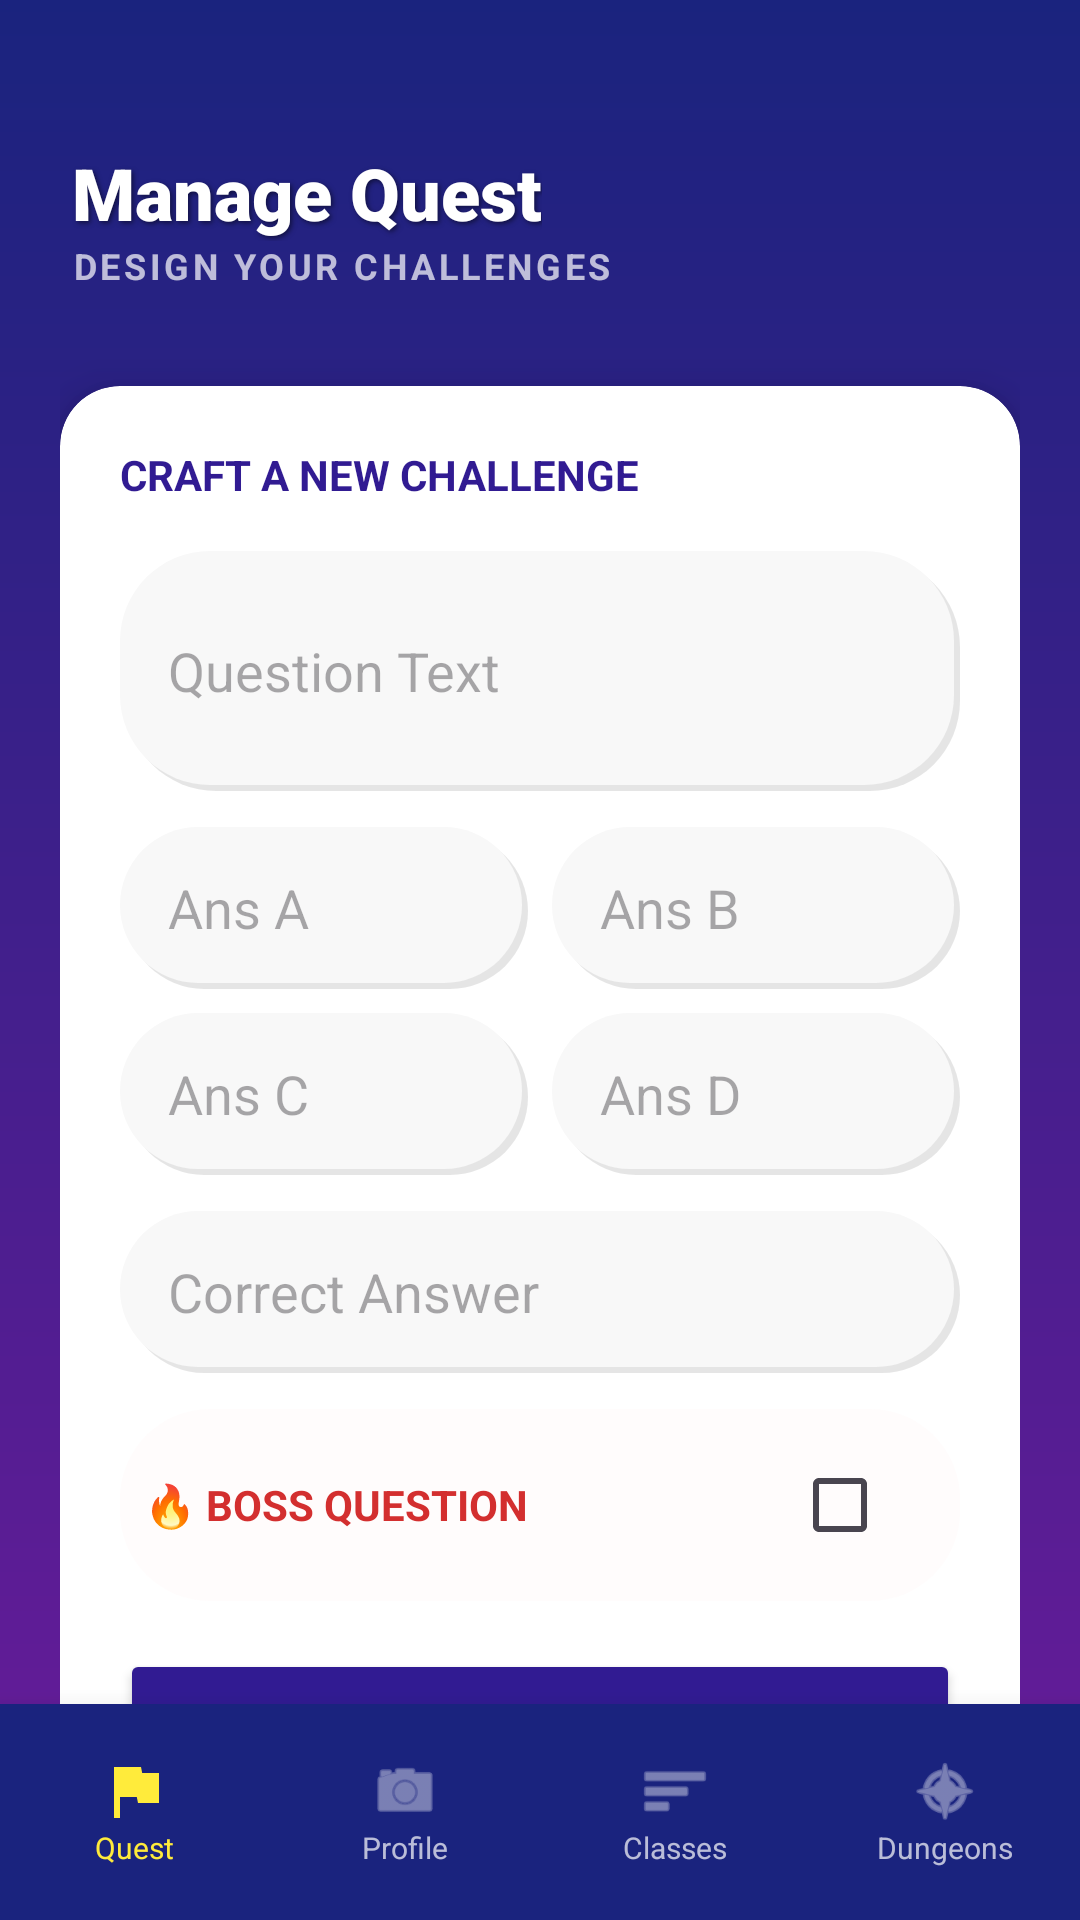

Icons on this 1080×1920 Android screen, each with its box as (x1, y1, x2, y2):
camera: (377, 1768, 433, 1812)
compass: (916, 1763, 973, 1820)
sort by size: (644, 1771, 706, 1811)
